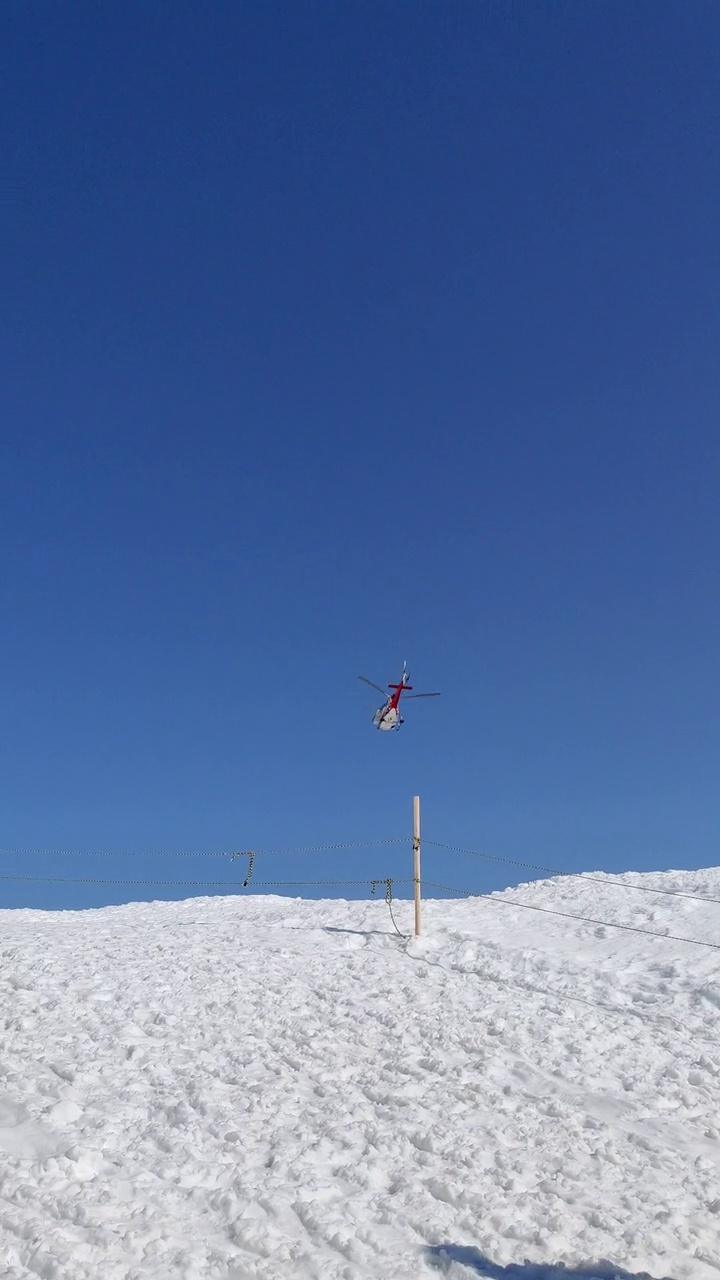heli: (358, 661, 444, 732)
